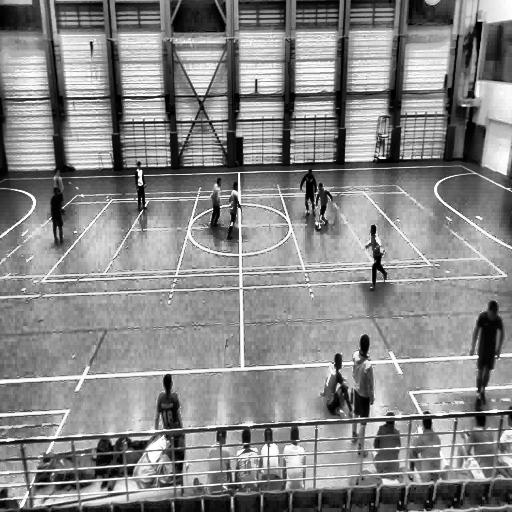ball: (314, 220, 322, 232)
player: (471, 298, 504, 406), (349, 334, 374, 456), (456, 408, 495, 473), (319, 352, 353, 419), (156, 373, 184, 444), (409, 411, 441, 473), (372, 411, 401, 474), (365, 222, 387, 293), (206, 428, 232, 487), (283, 425, 306, 490), (235, 428, 258, 487), (260, 426, 280, 481), (226, 179, 242, 240), (50, 185, 66, 244), (298, 168, 316, 219), (315, 182, 334, 230), (209, 176, 222, 230), (54, 166, 68, 216), (134, 161, 147, 212)
